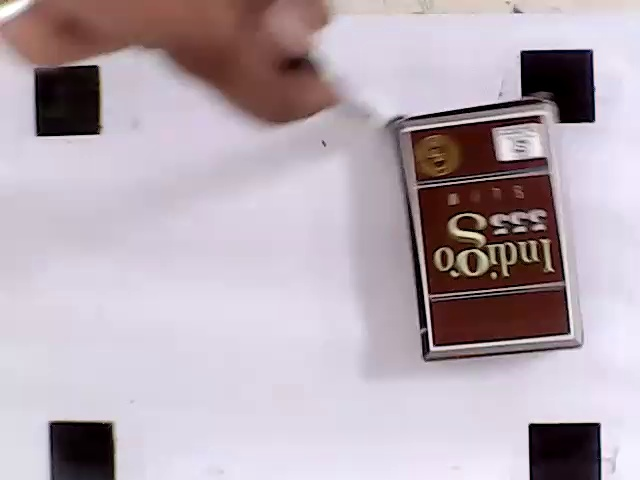BEX: (403, 113, 572, 349)
